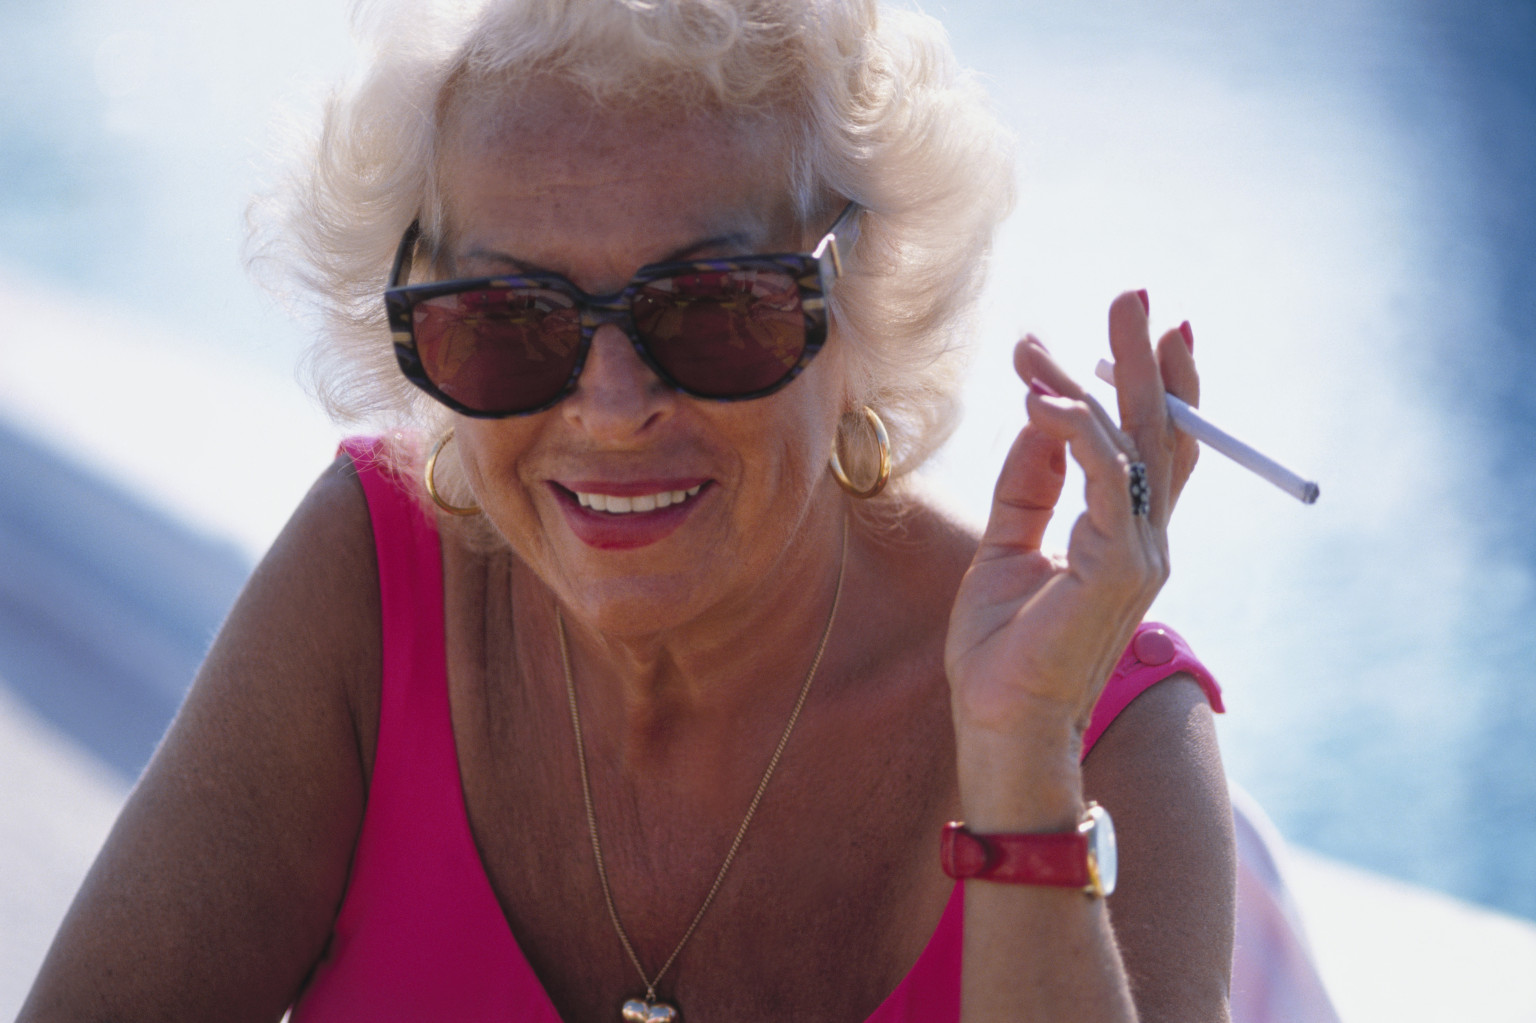ci: (1094, 359, 1323, 505)
